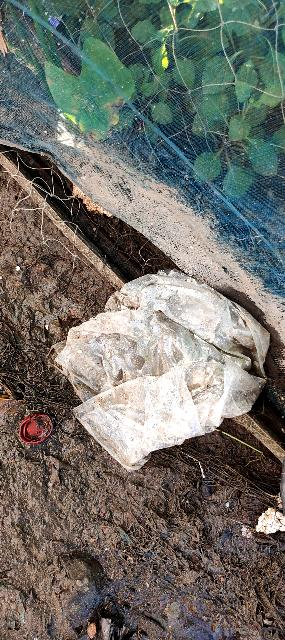polythene: (56, 274, 281, 471)
